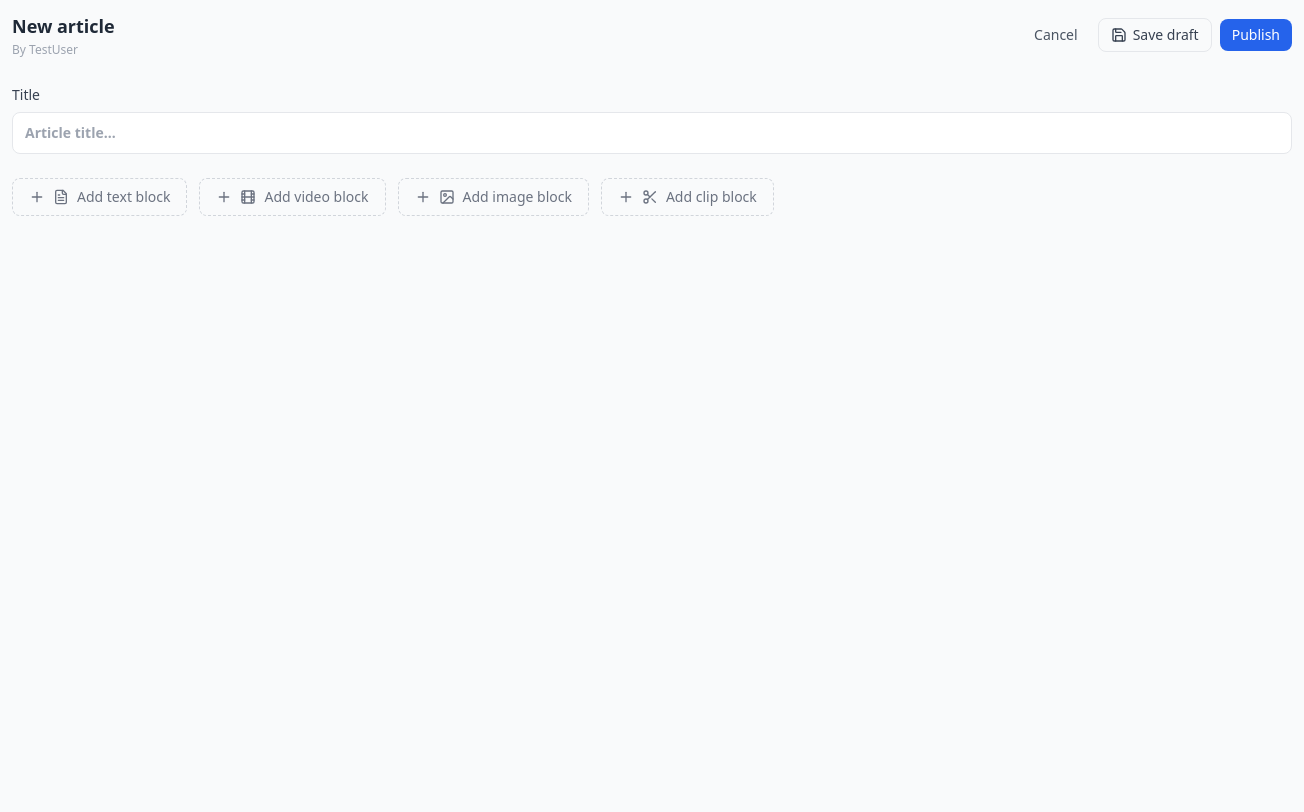
Test: ArticleEditor — block insertion buttons › clicking "+ Clip" adds a clip block with videoRef and startSeconds inputs
Step 1. Click the button "Add clip block" → (687,197), box [601,178,774,216]
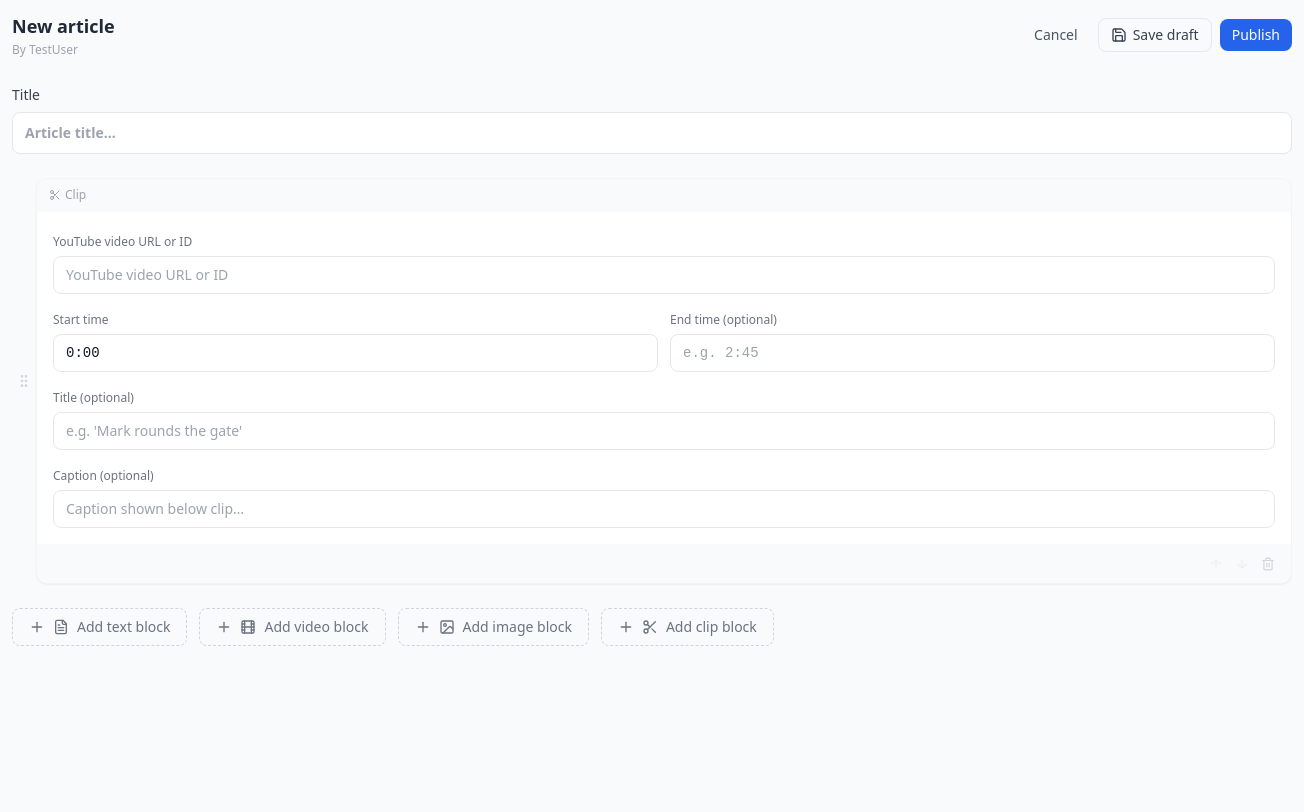
Check: the field with placeholder "YouTube video URL or ID" is shown, box [53,256,1275,294]
Check: the field with placeholder "Start time e.g. 1:23" is shown, box [53,334,658,372]
